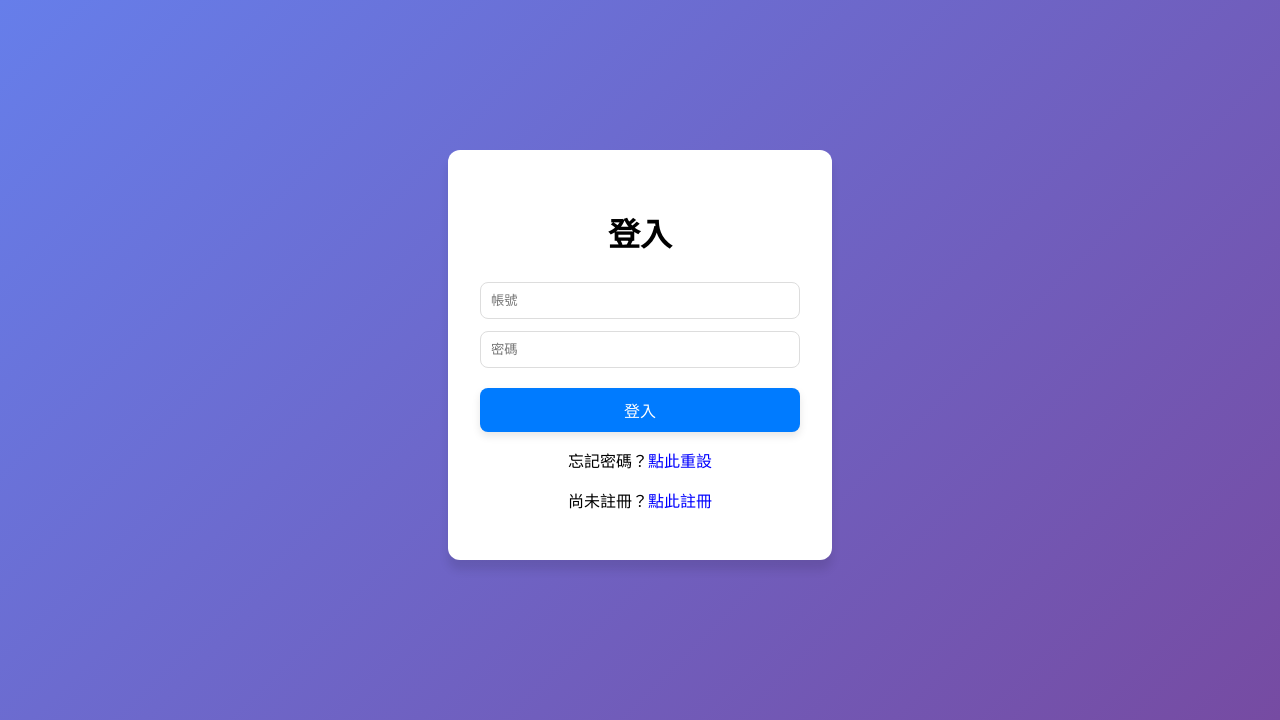
Scenario: Login.vue › 模擬 API 失敗回應時，應該顯示錯誤訊息
Expected: the password field with placeholder "密碼" is shown, top-left (480, 330), bottom-right (800, 368)
Step 1. Type "testuser" into the field with placeholder "帳號" → (640, 300), box top-left (480, 282), bottom-right (800, 318)
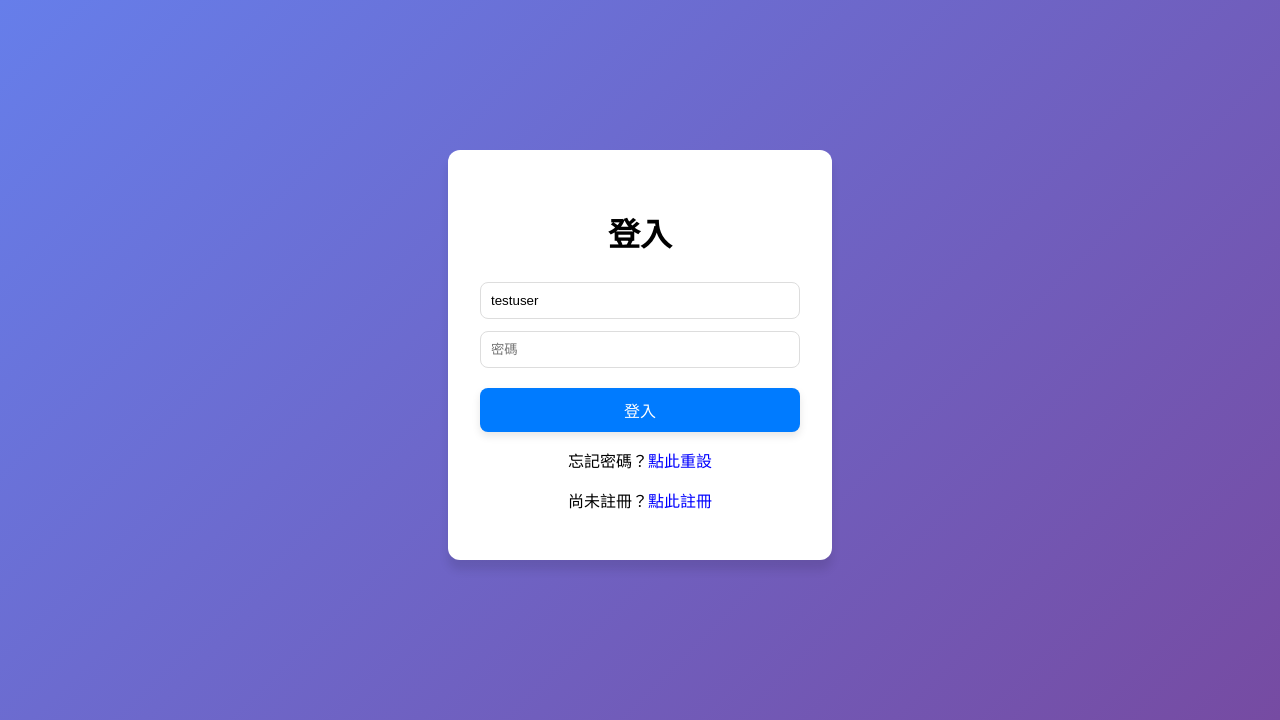
Step 2. Type "wrongpassword" into the password field with placeholder "密碼" → (640, 349), box top-left (480, 330), bottom-right (800, 368)
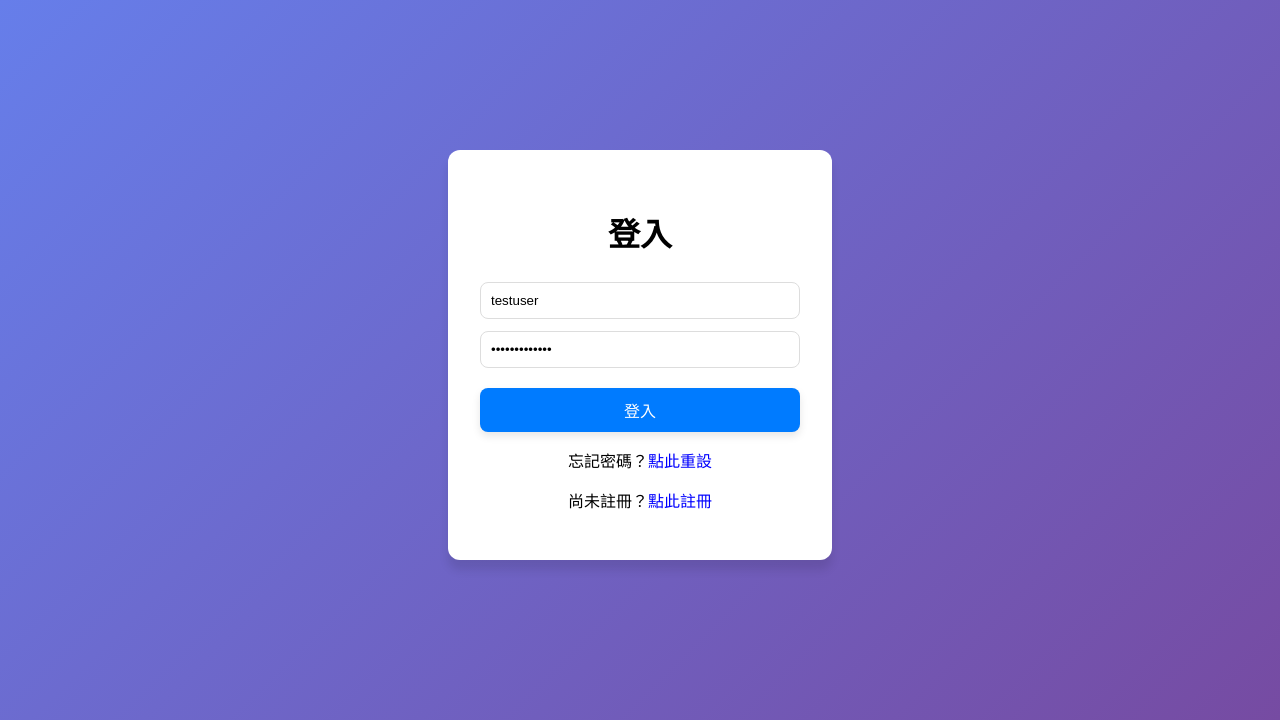
Step 3. Submit the form, box top-left (480, 282), bottom-right (800, 432)
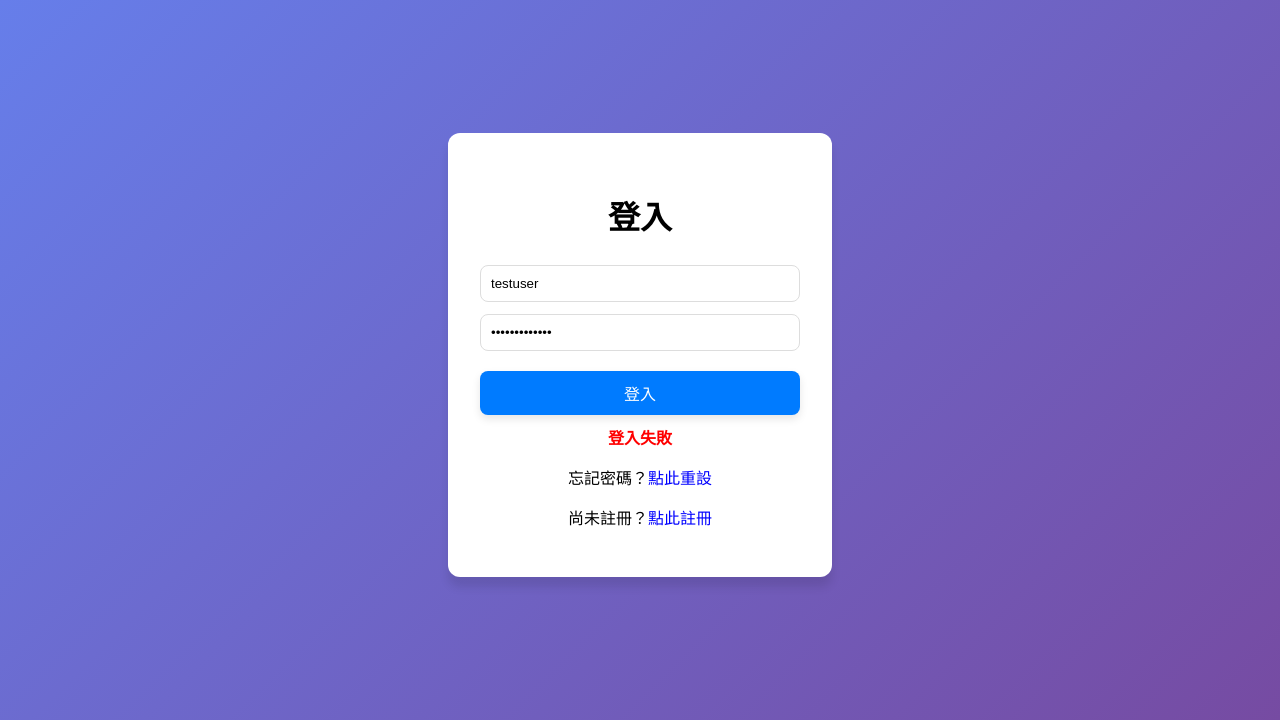
Now the text with class "error" reads "登入失敗", box top-left (608, 430), bottom-right (672, 446)
